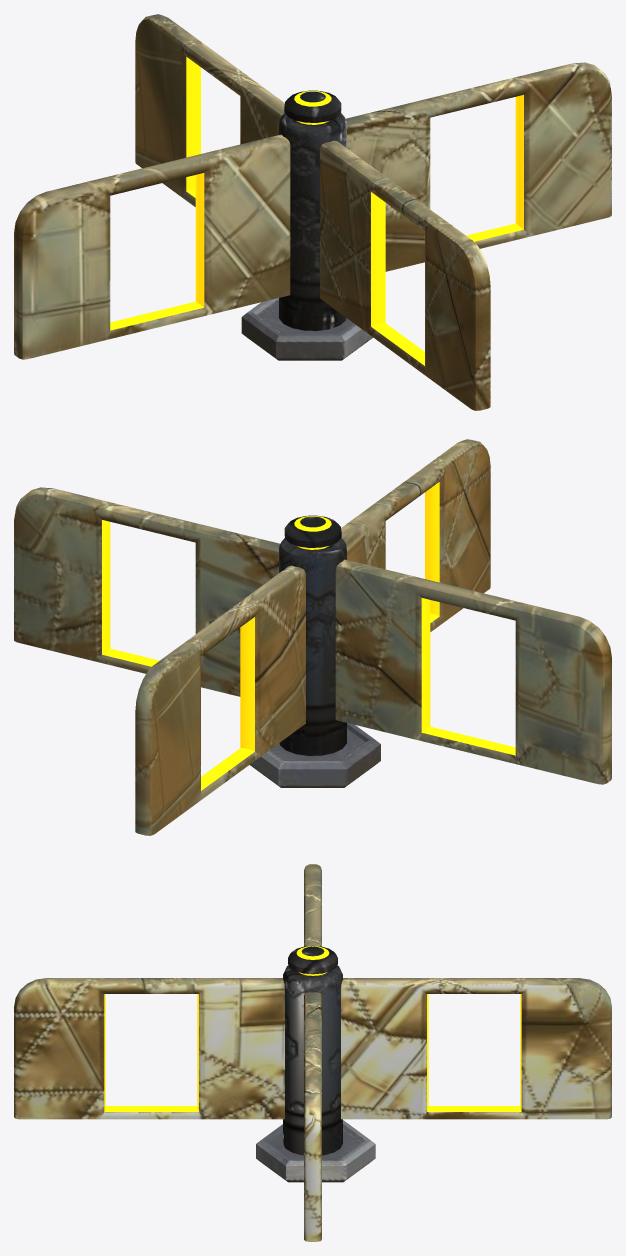
Rendered from floor.01.machine2.gltf.
The picture shows the model from 3 angles, top to bottom: view 1: azimuth 30°, elevation 25°; view 2: azimuth 150°, elevation 25°; view 3: azimuth 270°, elevation 25°; orthographic projection. The views are drawn at different scales.
Visible parts, largest first — view 1: floor.01.machine.03; view 2: floor.01.machine.03; view 3: floor.01.machine.03.
Boxes of the visible parts, box(x1,y1,x2,y2) form: floor.01.machine.03: box(14, 14, 611, 410); floor.01.machine.03: box(14, 439, 611, 835); floor.01.machine.03: box(14, 864, 611, 1241).
Size of what is drawn, in the model's own units: 10 by 3.91 by 10.
2 materials, 1 textured.
